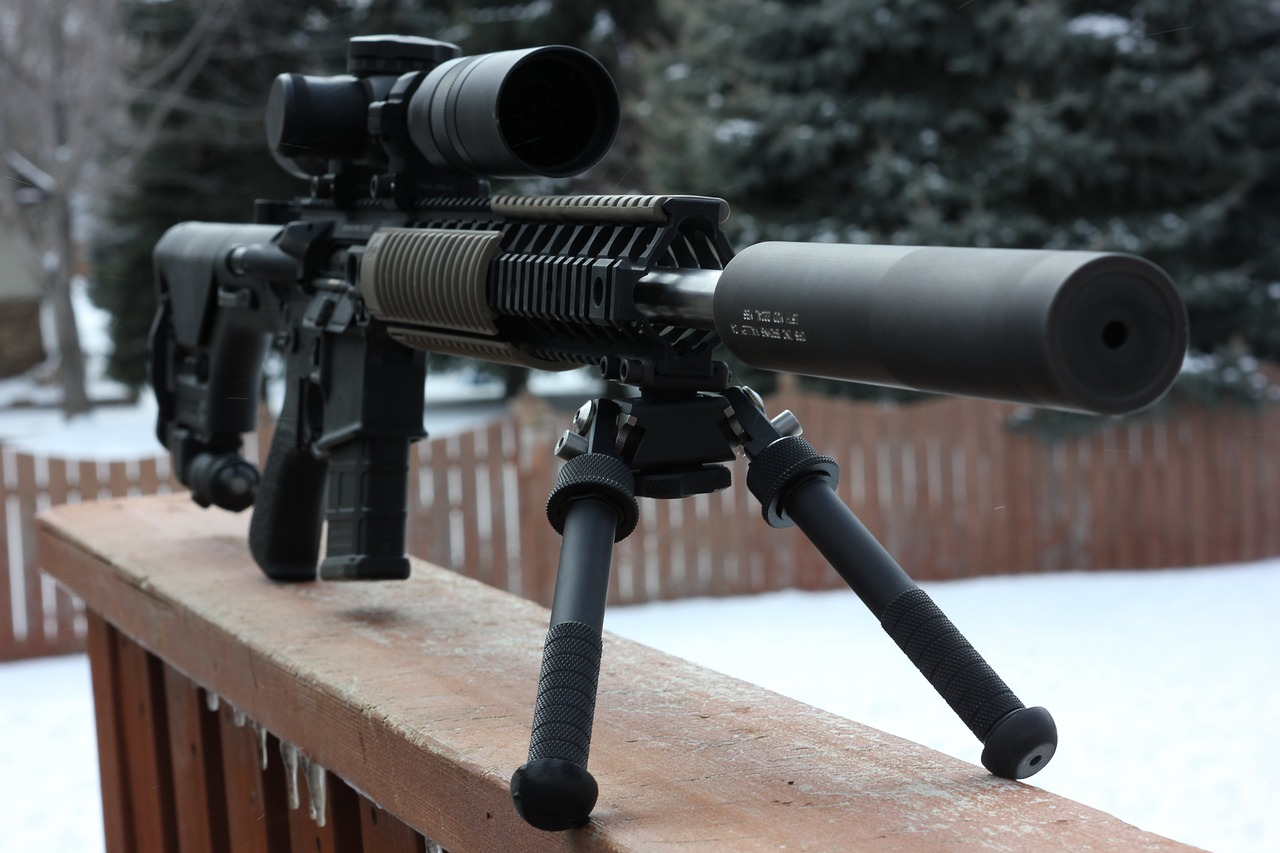gun: (135, 27, 1194, 838)
